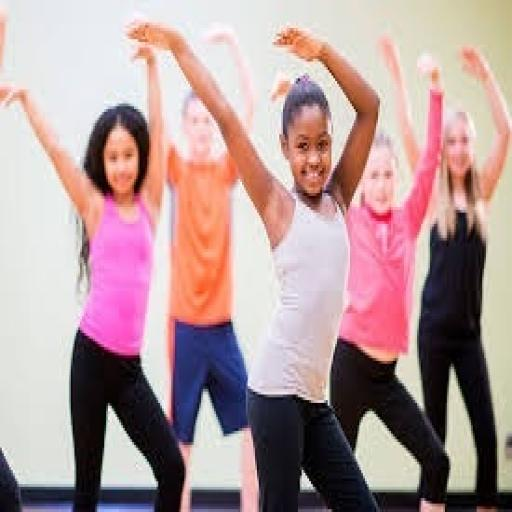dancing: (125, 14, 385, 509), (0, 17, 188, 509)
